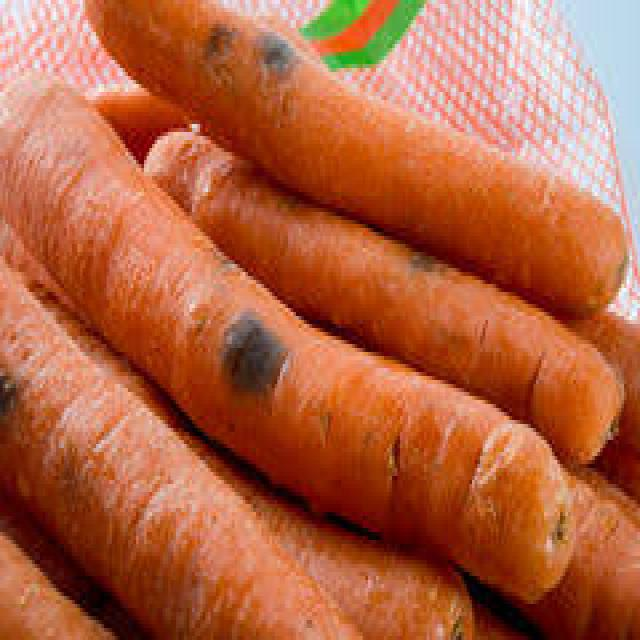Stale_Carrot: (144, 198, 375, 473), (179, 0, 366, 160), (0, 273, 93, 522), (188, 245, 314, 422)
